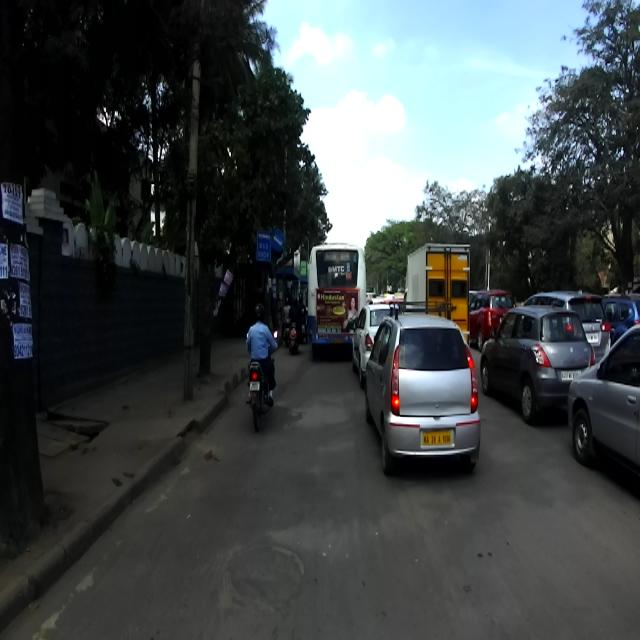car ahead at: (371, 310, 485, 474)
motorcycle ahead at: (244, 358, 286, 429)
